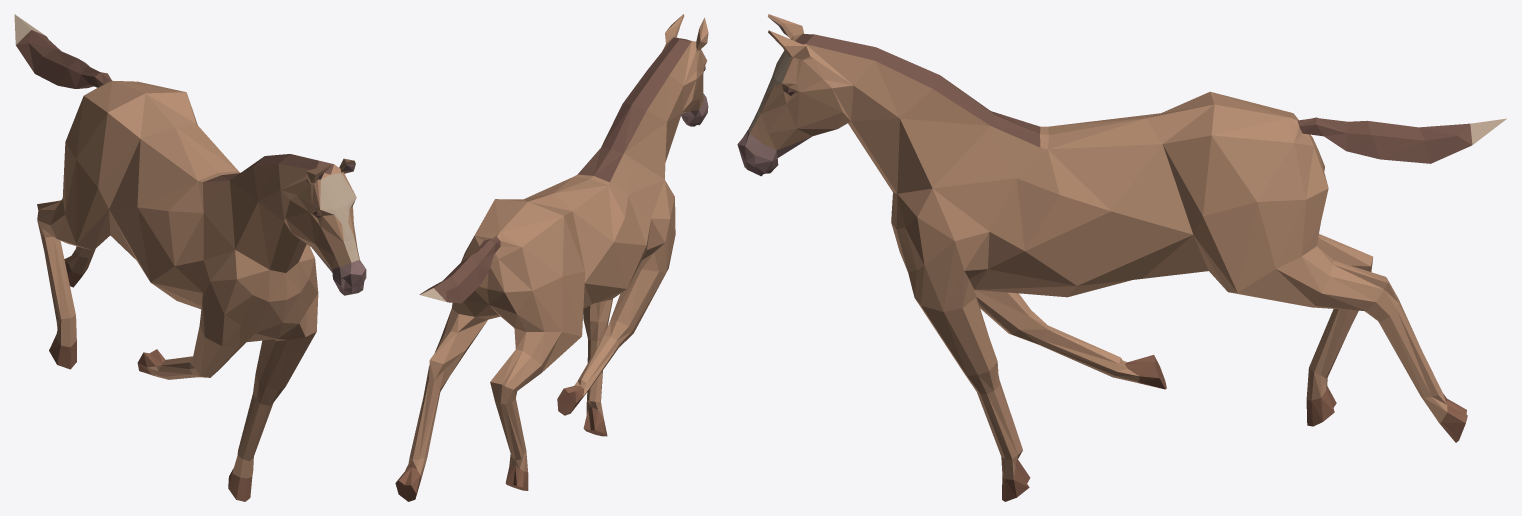
File: Horse.glb
3 views of the same model, side by side, from view 1: azimuth 30°, elevation 25°; view 2: azimuth 150°, elevation 25°; view 3: azimuth 270°, elevation 25° (orthographic). The views are drawn at different scales.
Parts seen in each view (by area): view 1: mesh_0; view 2: mesh_0; view 3: mesh_0.
Part boxes in pixels (x1,y1,x2,y2): mesh_0: (14, 14, 366, 501); mesh_0: (395, 14, 708, 501); mesh_0: (737, 14, 1506, 501).
Bounding box in the file's own units: 65.74 × 199 × 292.
